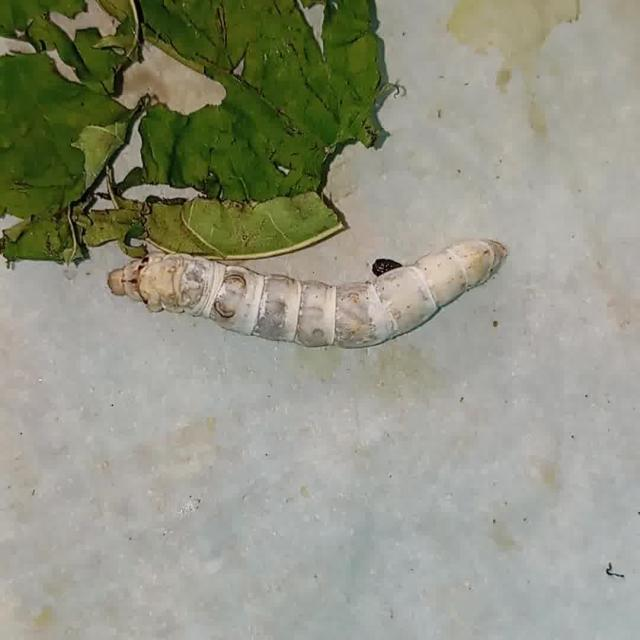Grasserie: (80, 202, 554, 368)
